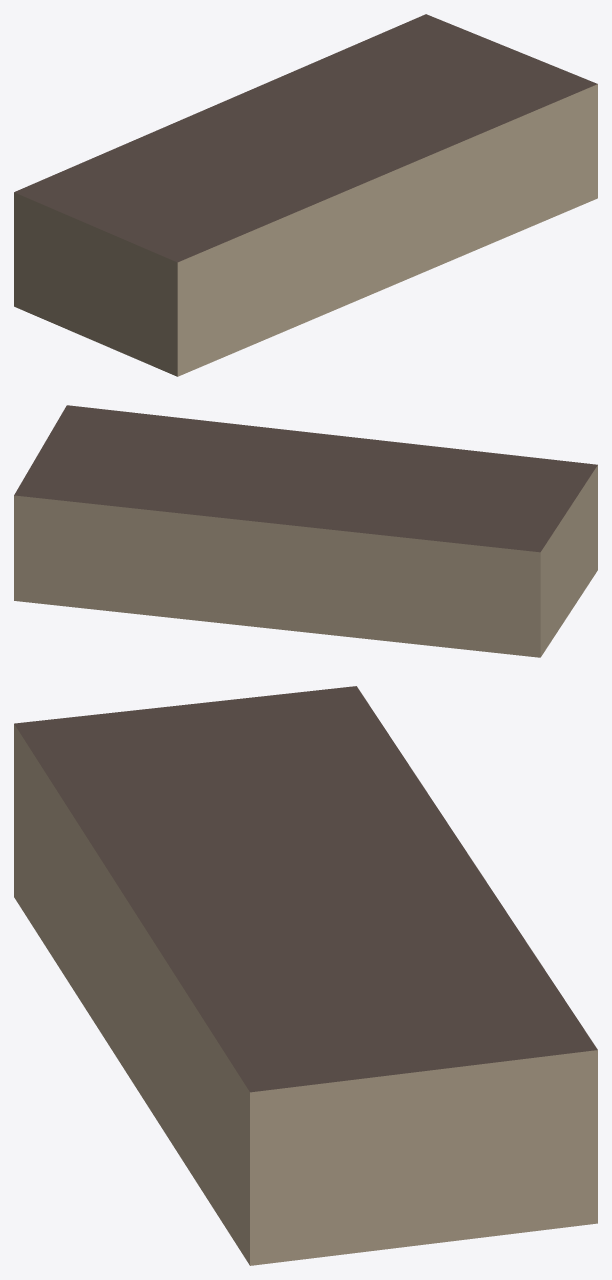
The picture shows the model from 3 angles, top to bottom: view 1: azimuth 30°, elevation 25°; view 2: azimuth 150°, elevation 25°; view 3: azimuth 270°, elevation 25°; orthographic projection. The views are drawn at different scales.
Visible parts, largest first — view 1: HP-w1196661466; view 2: HP-w1196661466; view 3: HP-w1196661466.
Boxes of the visible parts, x1,y1,x2,y2 form: HP-w1196661466: [14, 14, 597, 376]; HP-w1196661466: [14, 405, 597, 657]; HP-w1196661466: [14, 686, 597, 1265].
Bounding box in the file's own units: 45.2 × 9 × 27.45.
